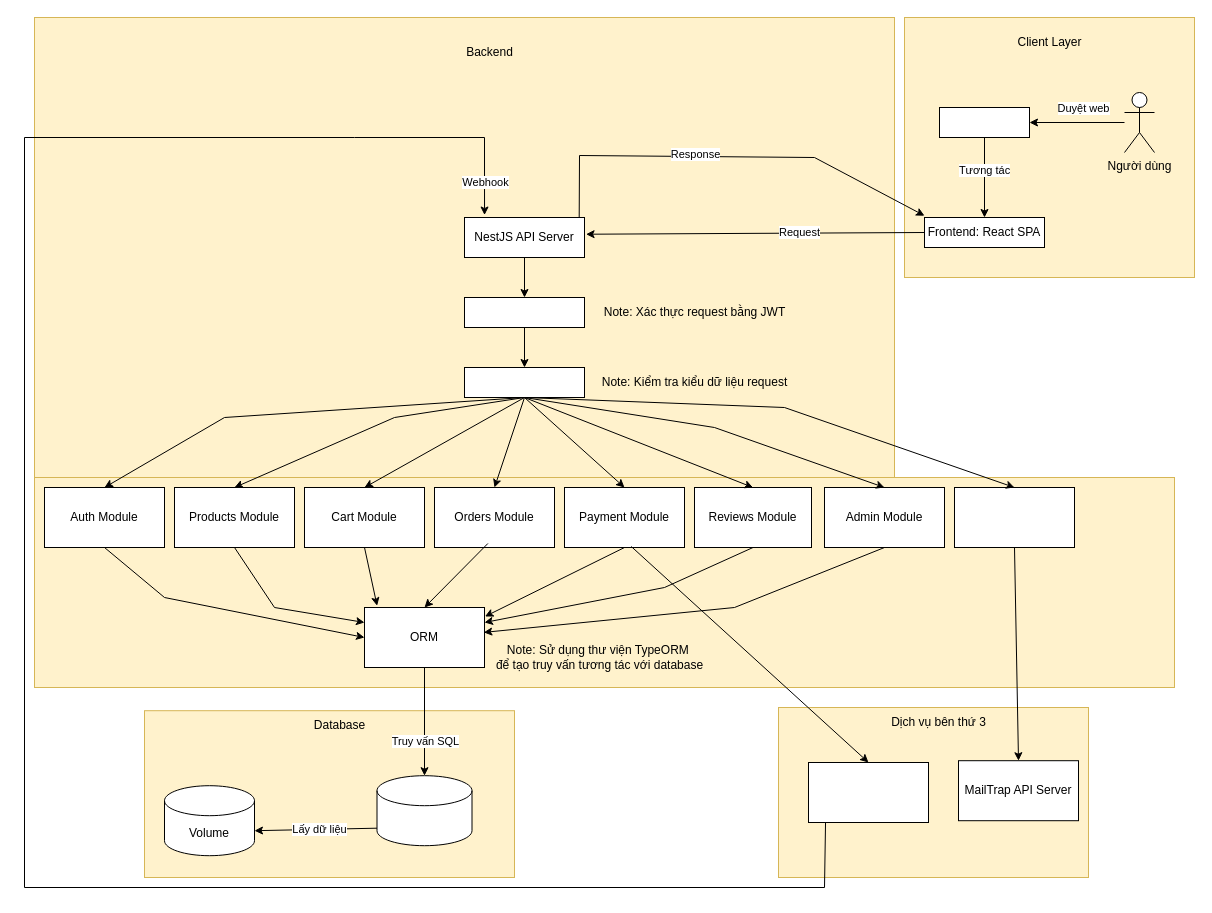
Some shapes in this 1212 by 913 pixel diagram are drawn without their labels. Each missing label, with the centre of its shape:
Guard: the point at 524,312
Mail Module: the point at 1014,517
Pipe: the point at 524,382
PostgresSQL Server: the point at 424,810
SePay API Server: the point at 868,792
Web Browser: the point at 984,122
